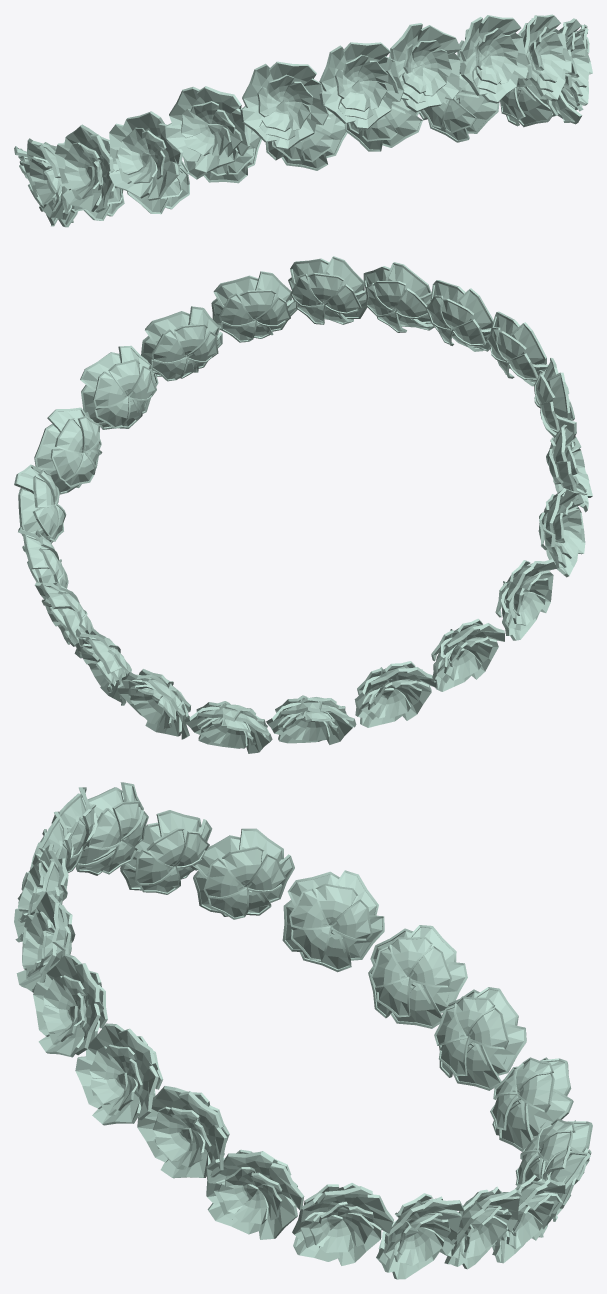
Rendered from HF _Rose_01.fbx.
The picture shows the model from 3 angles, top to bottom: view 1: azimuth 30°, elevation 25°; view 2: azimuth 150°, elevation 25°; view 3: azimuth 270°, elevation 25°; orthographic projection. The views are drawn at different scales.
Parts seen in each view (by area): view 1: 001-Plum blossom-green.004; view 2: 001-Plum blossom-green.004; view 3: 001-Plum blossom-green.004.
Boxes of the visible parts, x1=… form: 001-Plum blossom-green.004: x1=14, y1=14, x2=592, y2=227; 001-Plum blossom-green.004: x1=14, y1=256, x2=592, y2=753; 001-Plum blossom-green.004: x1=14, y1=782, x2=592, y2=1279.
Bounding box in the file's own units: 42.68 × 25.77 × 35.58.
